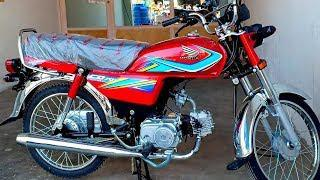bike: (1, 1, 319, 180)
